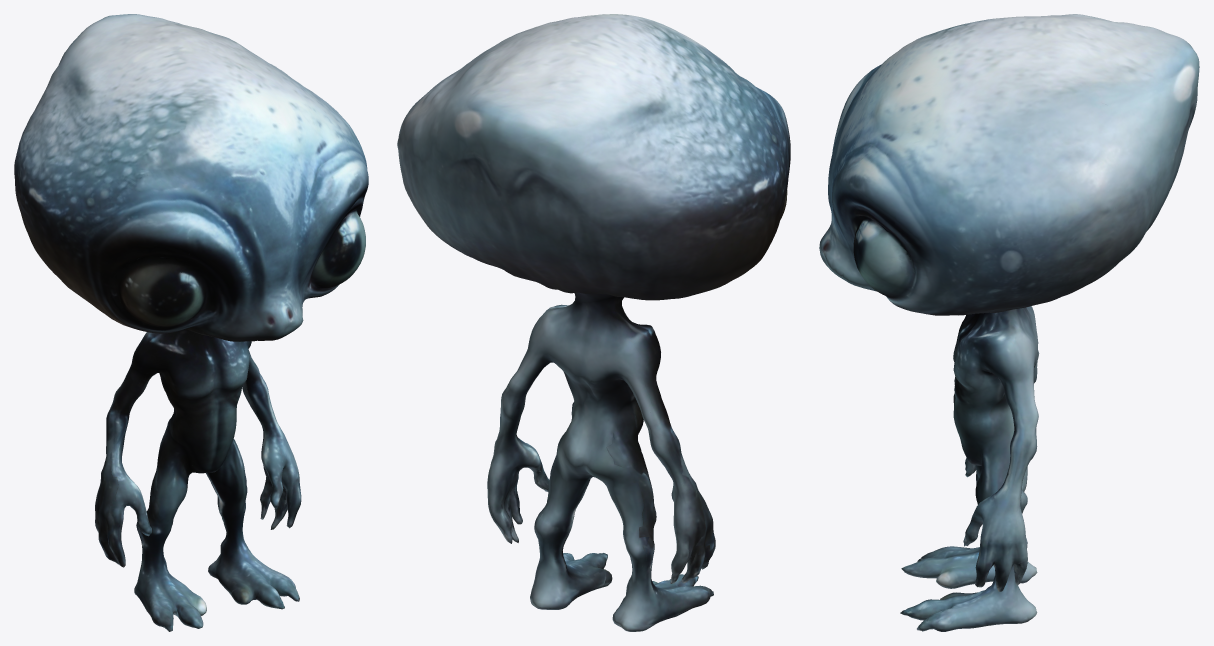
The model's file is Alien_0923175446.fbx.
The picture shows the model from 3 angles, left to right: view 1: azimuth 30°, elevation 25°; view 2: azimuth 150°, elevation 25°; view 3: azimuth 270°, elevation 25°; orthographic projection. The views are drawn at different scales.
Visible parts, largest first — view 1: Mesh_0; view 2: Mesh_0; view 3: Mesh_0.
Boxes of the visible parts, x1=… form: Mesh_0: x1=14, y1=14, x2=368, y2=631; Mesh_0: x1=397, y1=14, x2=790, y2=631; Mesh_0: x1=819, y1=14, x2=1199, y2=631.
Size of the model in its own units: 124 by 200 by 121.
Materials: 1 (1 with a texture image).
